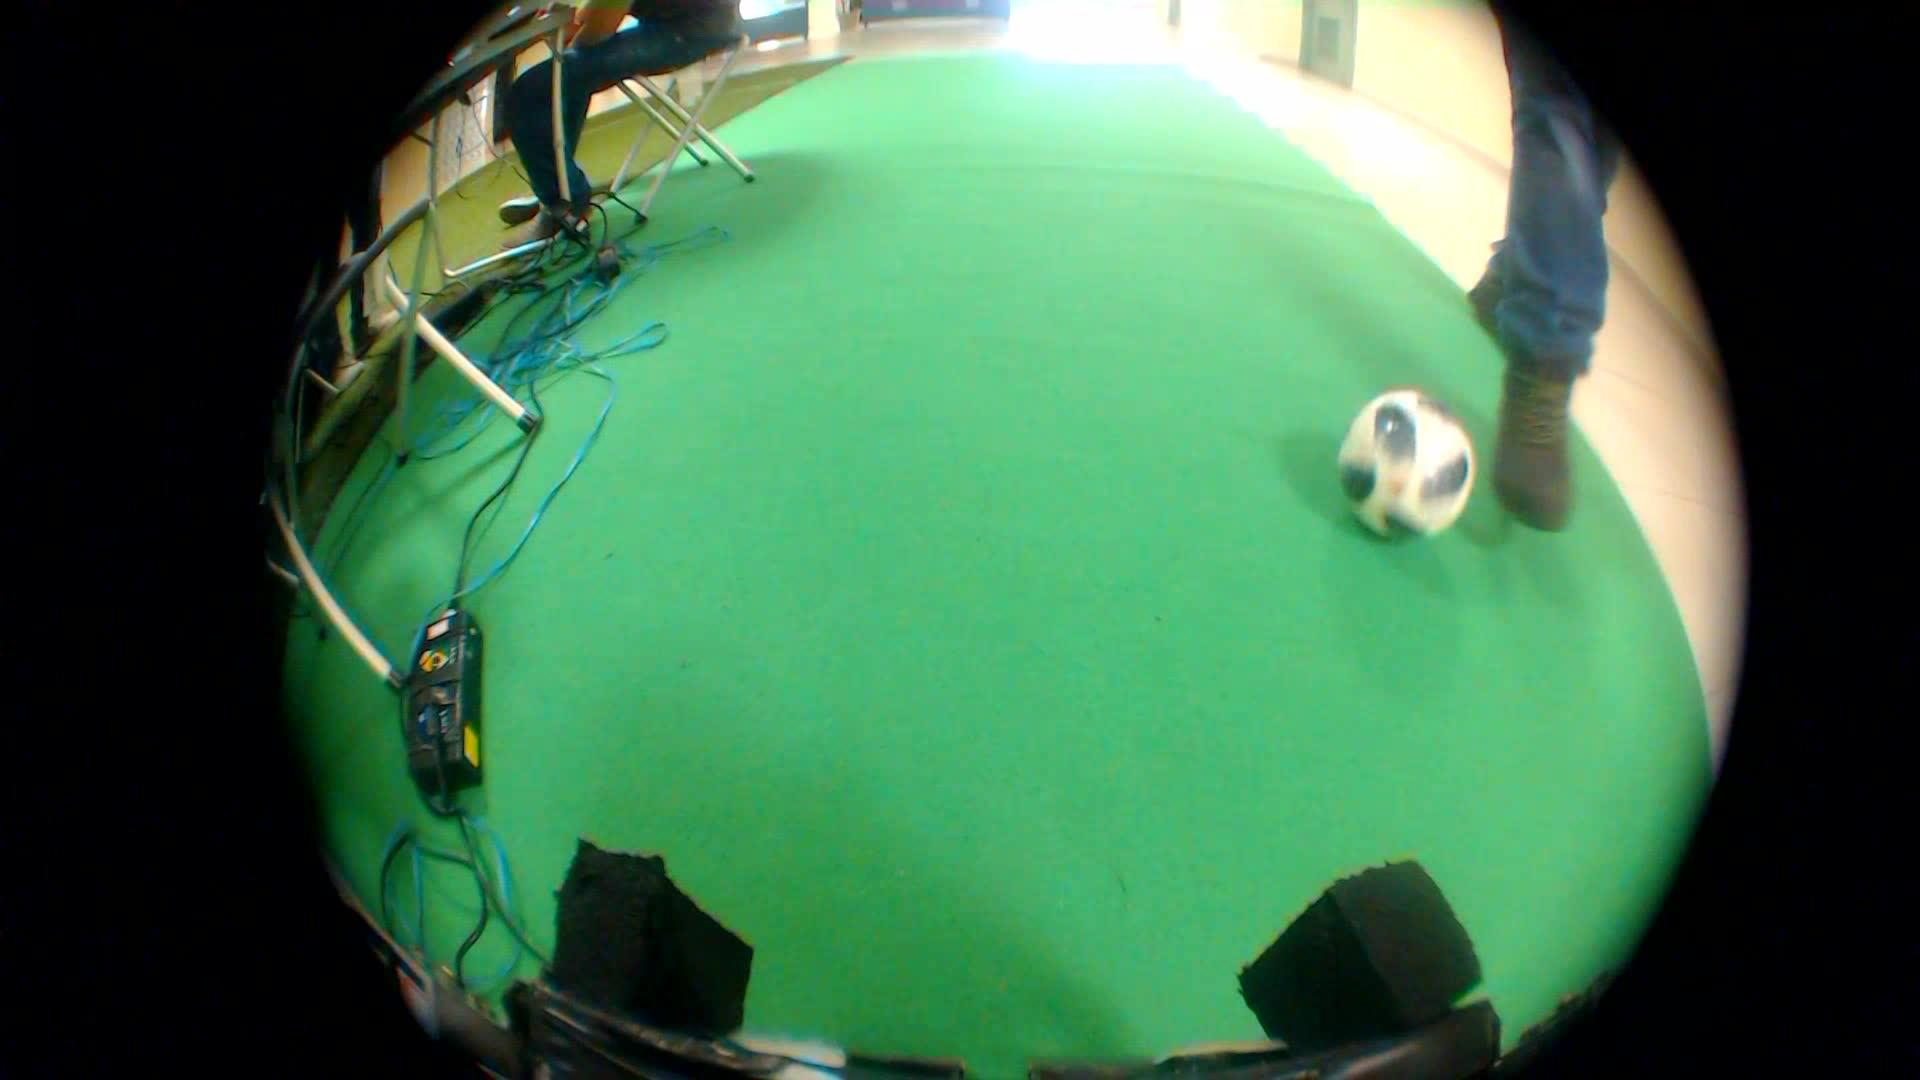ball: (1317, 369, 1491, 549)
